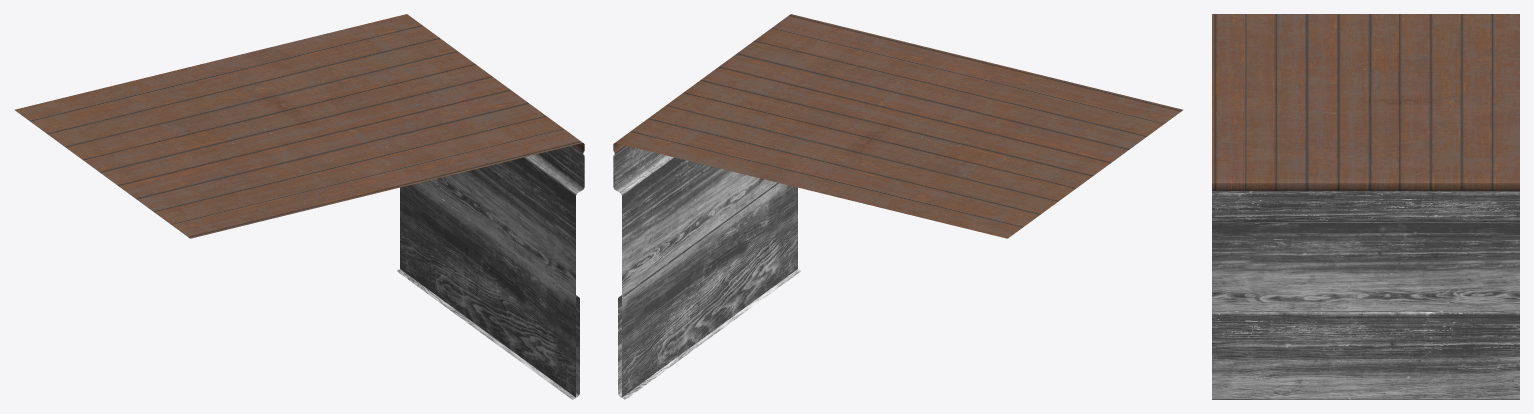
The model's file is SM_Base_Side_B3_Splines_47.fbx.
3 renders of one model, left to right at view 1: azimuth 30°, elevation 25°; view 2: azimuth 150°, elevation 25°; view 3: azimuth 270°, elevation 25°, orthographic. The views are drawn at different scales.
Visible parts, largest first — view 1: SM_Base_Side_B3_Splines_47; view 2: SM_Base_Side_B3_Splines_47; view 3: SM_Base_Side_B3_Splines_47.
Part boxes in pixels (x1,y1,x2,y2): SM_Base_Side_B3_Splines_47: (14,14,584,399); SM_Base_Side_B3_Splines_47: (613,14,1183,399); SM_Base_Side_B3_Splines_47: (1212,14,1519,399).
Bounding box in the file's own units: 192 × 149 × 118.
Materials: 3 (3 with a texture image).
